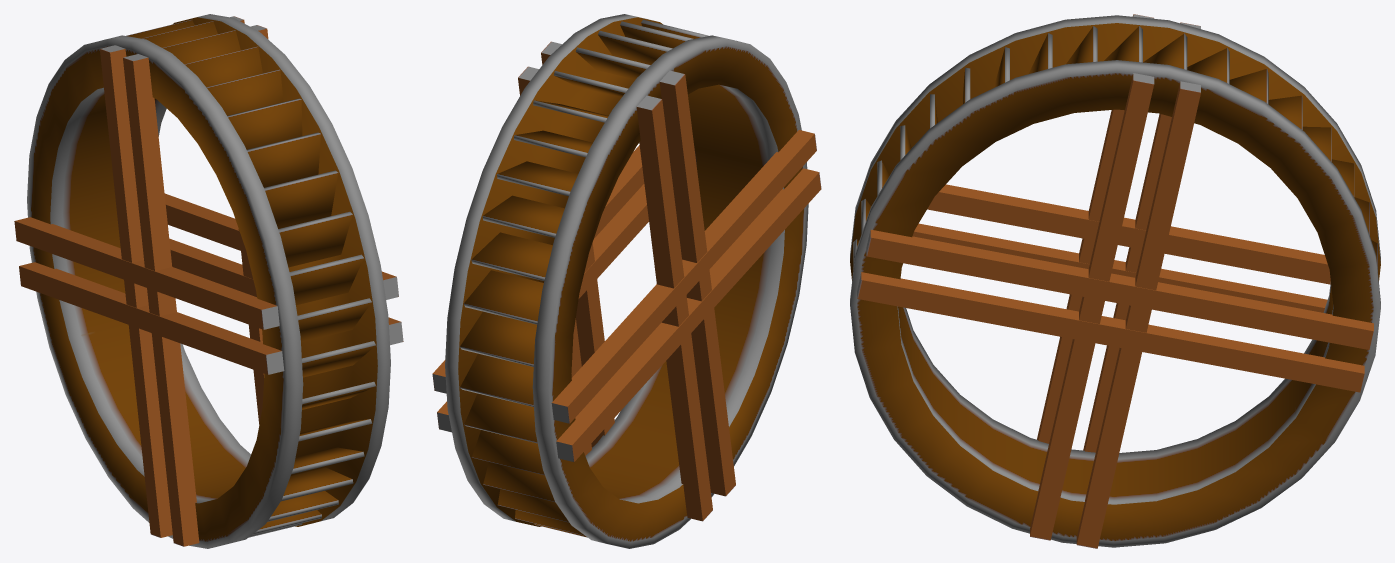
The model's file is WaterWheel_action2.fbx.
3 renders of one model, left to right at view 1: azimuth 30°, elevation 25°; view 2: azimuth 150°, elevation 25°; view 3: azimuth 270°, elevation 25°, orthographic.
Parts seen in each view (by area): view 1: WasserRad; view 2: WasserRad; view 3: WasserRad.
Part boxes in pixels (<box>): WasserRad: <box>14,14,403,548</box>; WasserRad: <box>432,14,821,548</box>; WasserRad: <box>850,14,1380,548</box>.
Bounding box in the file's own units: 0.599 × 2 × 2.
